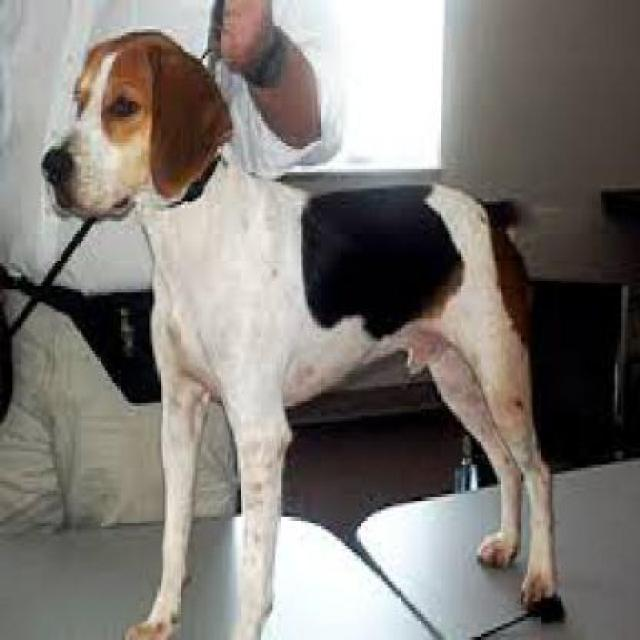Dog: (39, 23, 563, 637)
